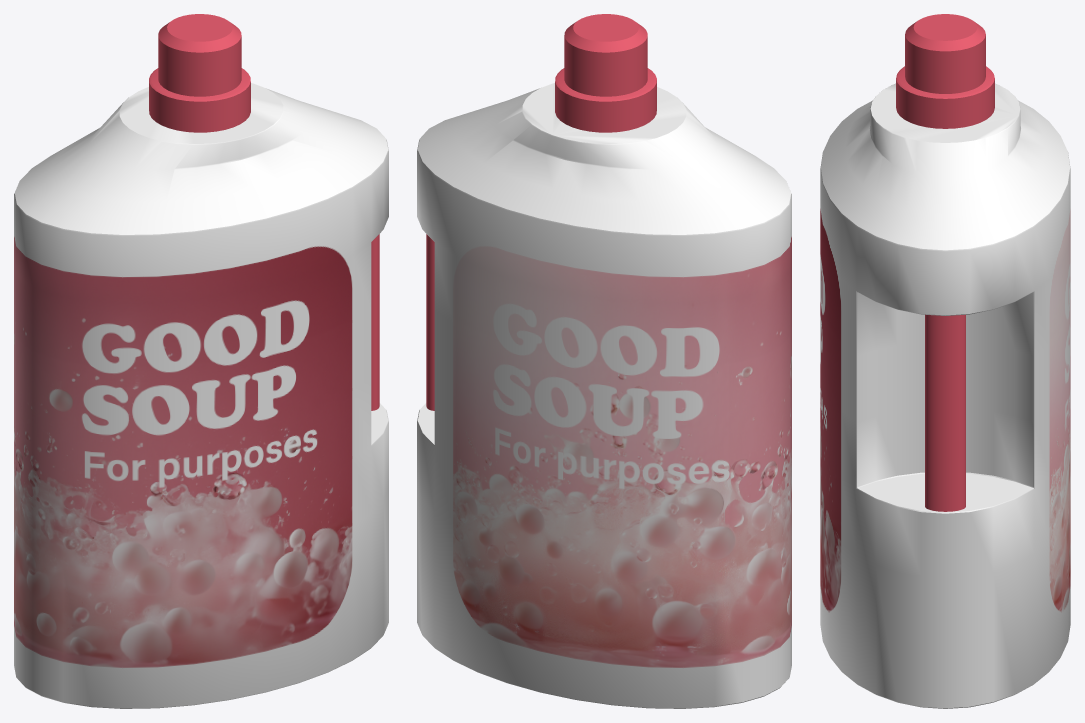
Rendered from pesuaine.fbx.
3 views of the same model, side by side, from view 1: azimuth 30°, elevation 25°; view 2: azimuth 150°, elevation 25°; view 3: azimuth 270°, elevation 25° (orthographic). The views are drawn at different scales.
Parts seen in each view (by area): view 1: kahva; view 2: kahva; view 3: kahva.
Part boxes in pixels (bbox=[...]): kahva: bbox=[14, 14, 388, 708]; kahva: bbox=[417, 14, 791, 708]; kahva: bbox=[820, 14, 1070, 708].
Size of the model in its own units: 31.47 by 52.77 by 20.01.
Materials: 2 (1 with a texture image).
